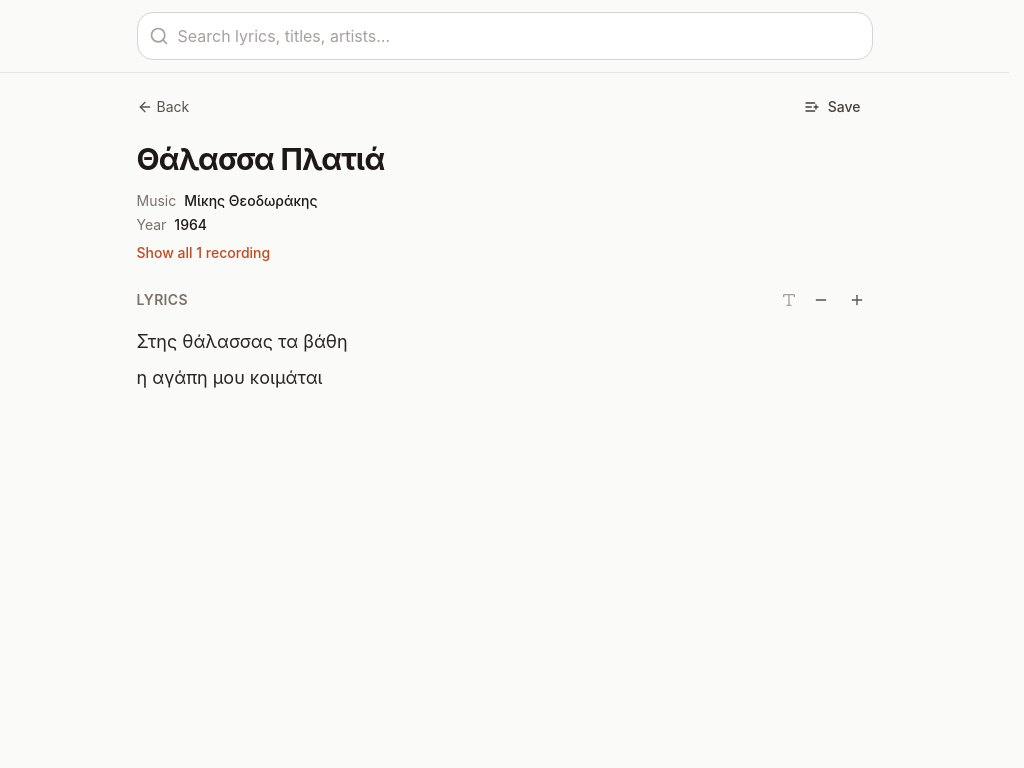
Test: SongDetailPage recordings › names a year-only recording once
Click the button "Show all 1 recording" at {"x": 203, "y": 252}, box [136,242,270,262]
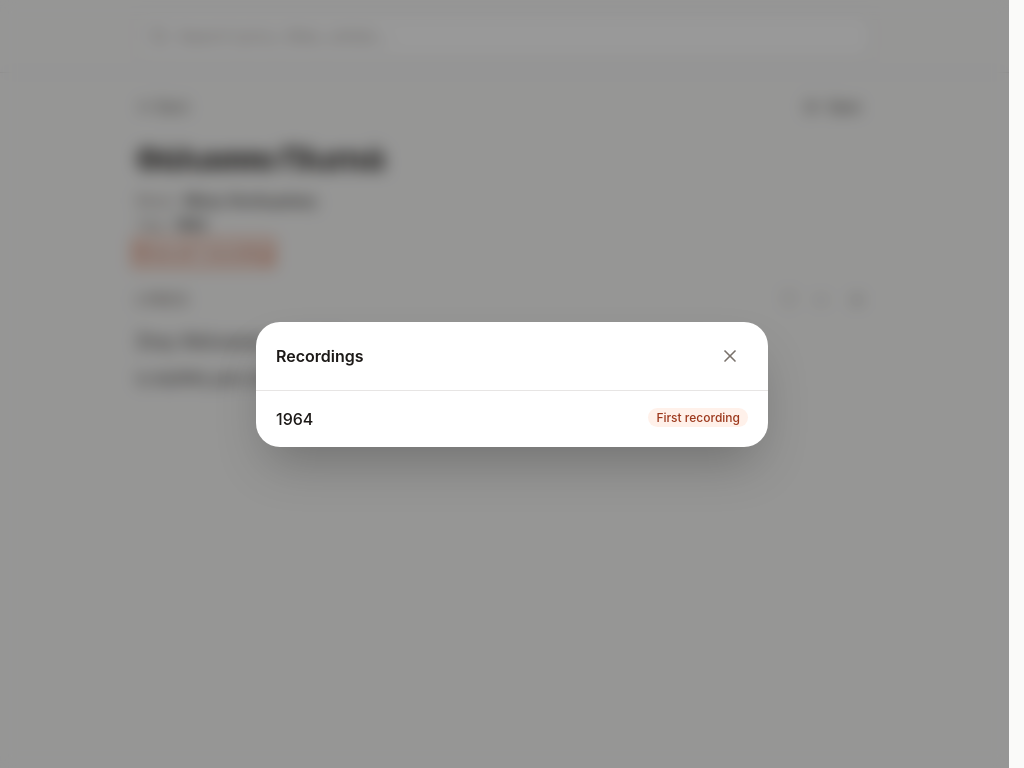
Result: the text "1964" is shown once at [276,406,313,430]
